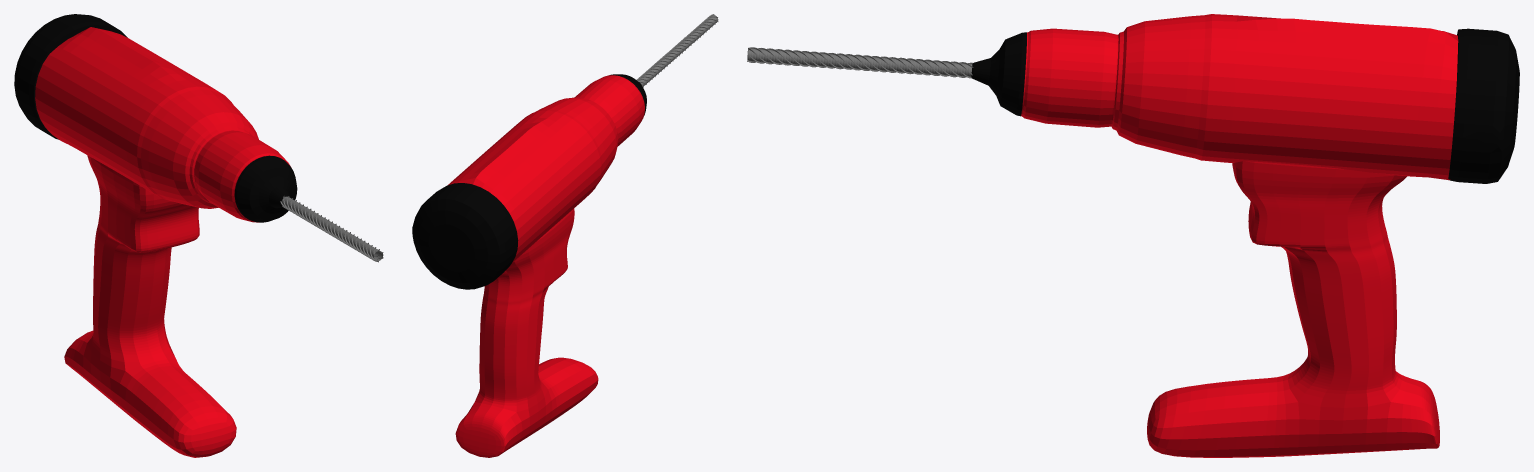
Rendered from Driller.fbx.
3 renders of one model, left to right at view 1: azimuth 30°, elevation 25°; view 2: azimuth 150°, elevation 25°; view 3: azimuth 270°, elevation 25°, orthographic. The views are drawn at different scales.
Parts seen in each view (by area): view 1: Cylinder.001, Worm Gear; view 2: Cylinder.001, Worm Gear; view 3: Cylinder.001, Worm Gear.
Part boxes in pixels (x1,y1,x2,y2): Cylinder.001: [14, 14, 297, 457]; Worm Gear: [280, 196, 383, 262]; Cylinder.001: [412, 74, 646, 457]; Worm Gear: [636, 14, 718, 87]; Cylinder.001: [971, 14, 1519, 457]; Worm Gear: [747, 47, 973, 78].
Size of the model in its own units: 3.64 by 11.34 by 18.26.
